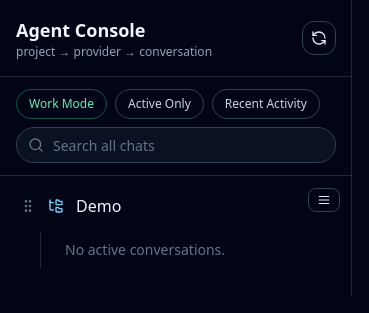
it: Start (provider-neutral new chat) › shows or hides Start correctly when one provider is enabled
Click the button named "Project actions for Demo" at (324, 200), box [308, 188, 340, 212]
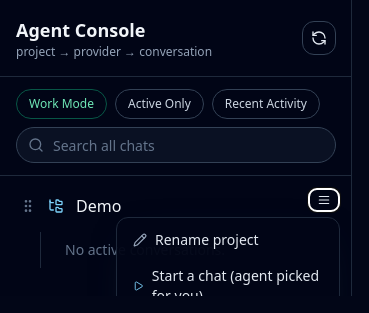
Expected: the button "Start a chat (agent picked for you)" is shown, [121, 258, 335, 296]
